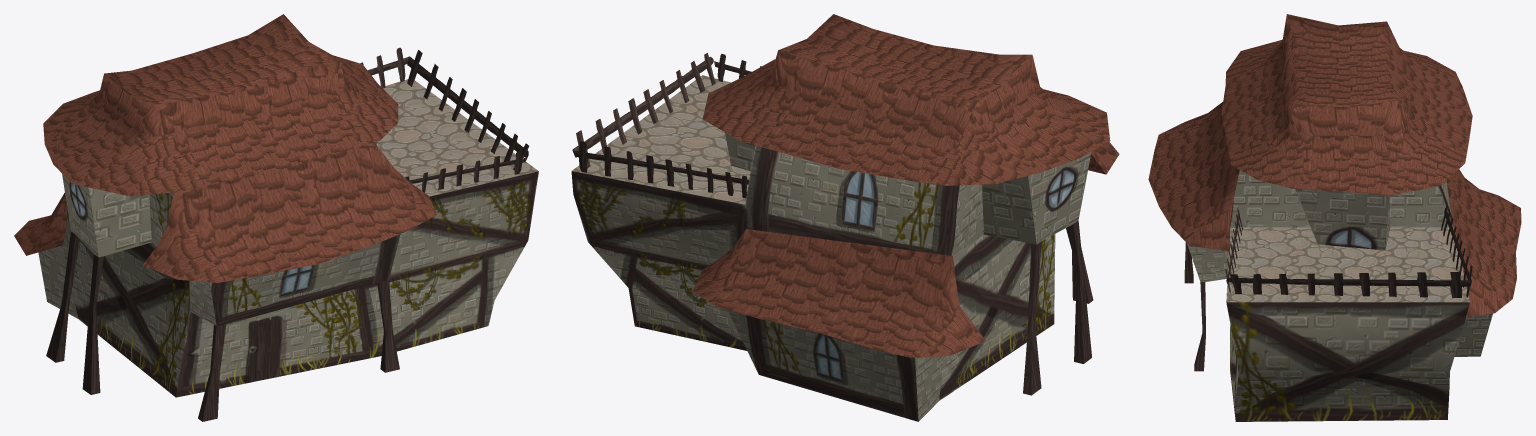
Rendered from House1_breakable.fbx.
3 renders of one model, left to right at view 1: azimuth 30°, elevation 25°; view 2: azimuth 150°, elevation 25°; view 3: azimuth 270°, elevation 25°, orthographic. The views are drawn at different scales.
Parts seen in each view (by area): view 1: polySurface113, polySurface115, polySurface114; view 2: polySurface113, polySurface115, polySurface114; view 3: polySurface113, polySurface114, polySurface115.
Boxes of the visible parts, x1=… form: polySurface113: x1=14, y1=14, x2=538, y2=421; polySurface115: x1=361, y1=48, x2=528, y2=189; polySurface114: x1=360, y1=47, x2=528, y2=192; polySurface113: x1=571, y1=14, x2=1119, y2=421; polySurface115: x1=573, y1=53, x2=760, y2=192; polySurface114: x1=572, y1=53, x2=761, y2=198; polySurface113: x1=1148, y1=14, x2=1521, y2=421; polySurface114: x1=1225, y1=205, x2=1472, y2=297; polySurface115: x1=1225, y1=205, x2=1471, y2=297.
Bounding box in the file's own units: 7.61 × 4.69 × 5.93.
